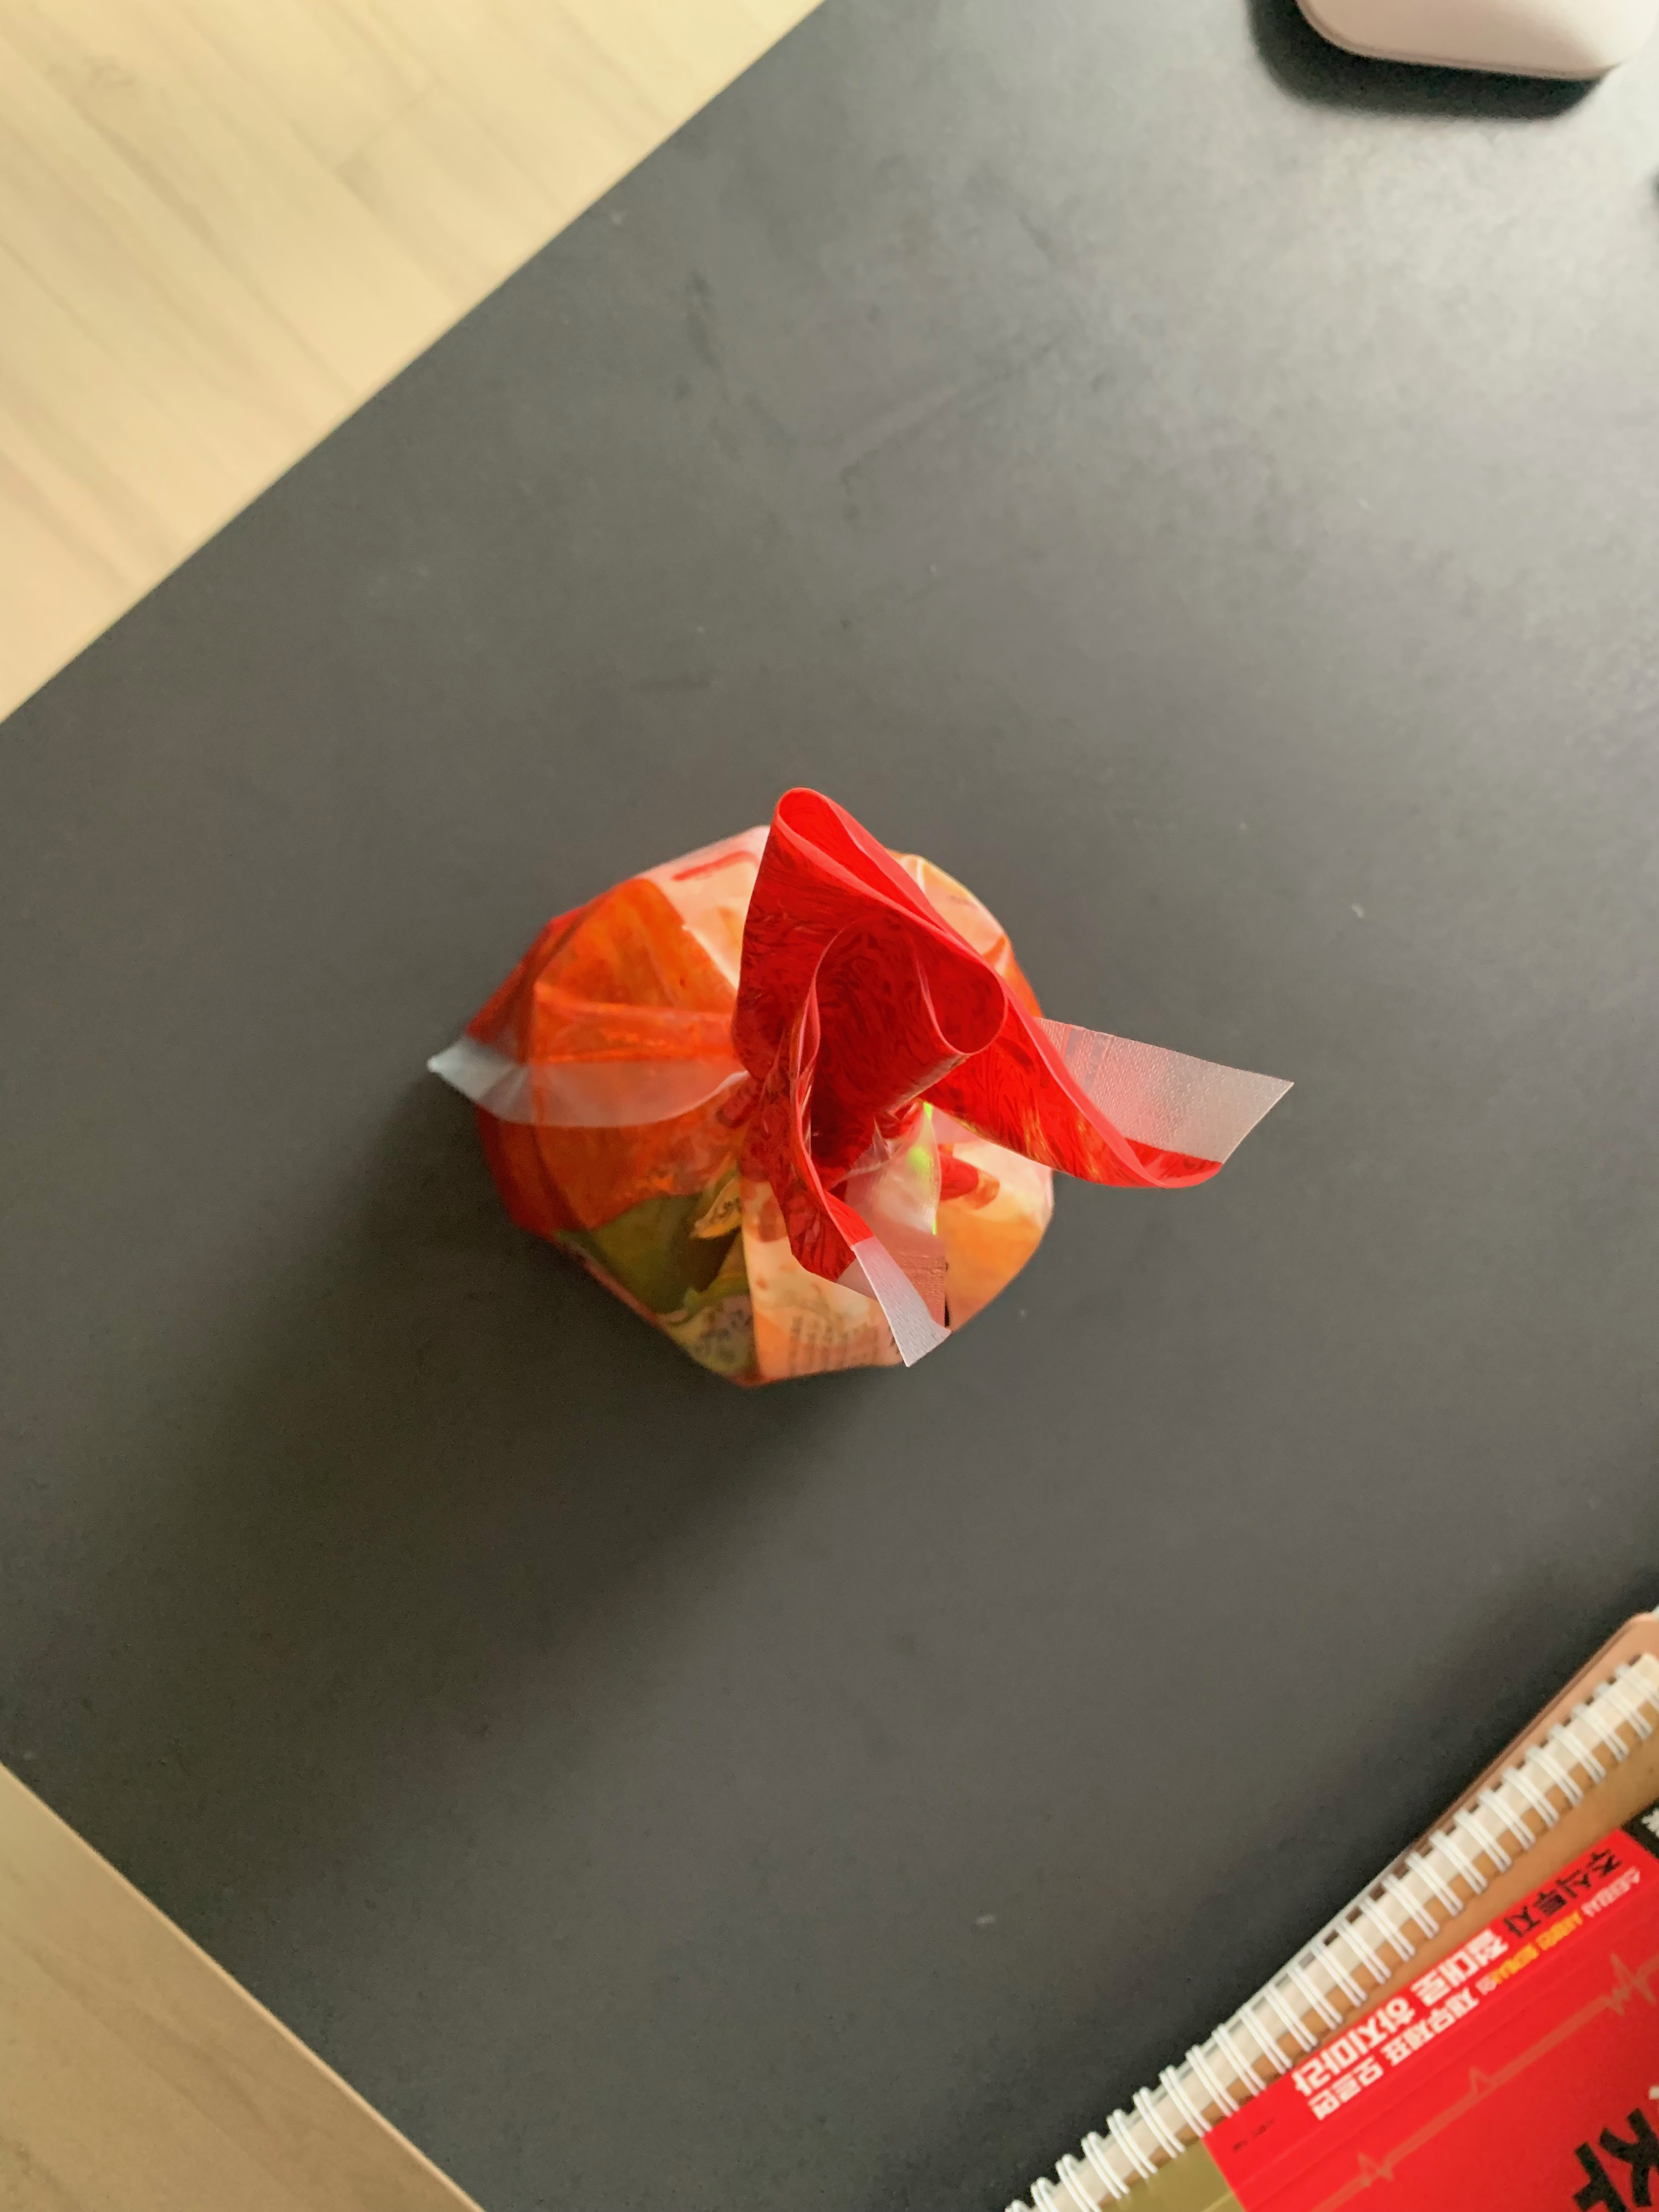kimchi: (467, 780, 1216, 1379)
